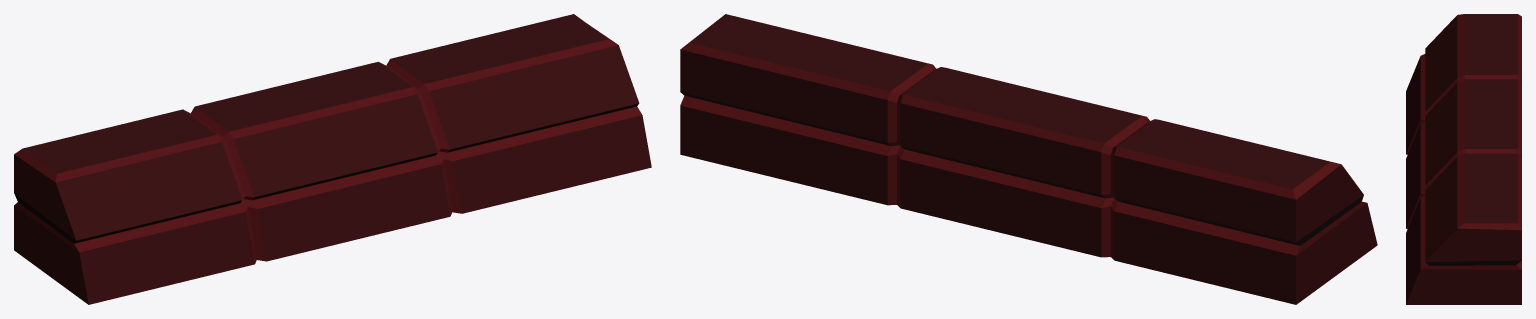
The model's file is Slab_Var2.FBX.
3 renders of one model, left to right at view 1: azimuth 30°, elevation 25°; view 2: azimuth 150°, elevation 25°; view 3: azimuth 270°, elevation 25°, orthographic. The views are drawn at different scales.
Visible parts, largest first — view 1: Box009; view 2: Box009; view 3: Box009.
Boxes of the visible parts, x1,y1,x2,y2 form: Box009: [14, 14, 651, 304]; Box009: [680, 14, 1377, 304]; Box009: [1406, 14, 1521, 304].
Size of the model in its own units: 288 by 50 by 66.05.
